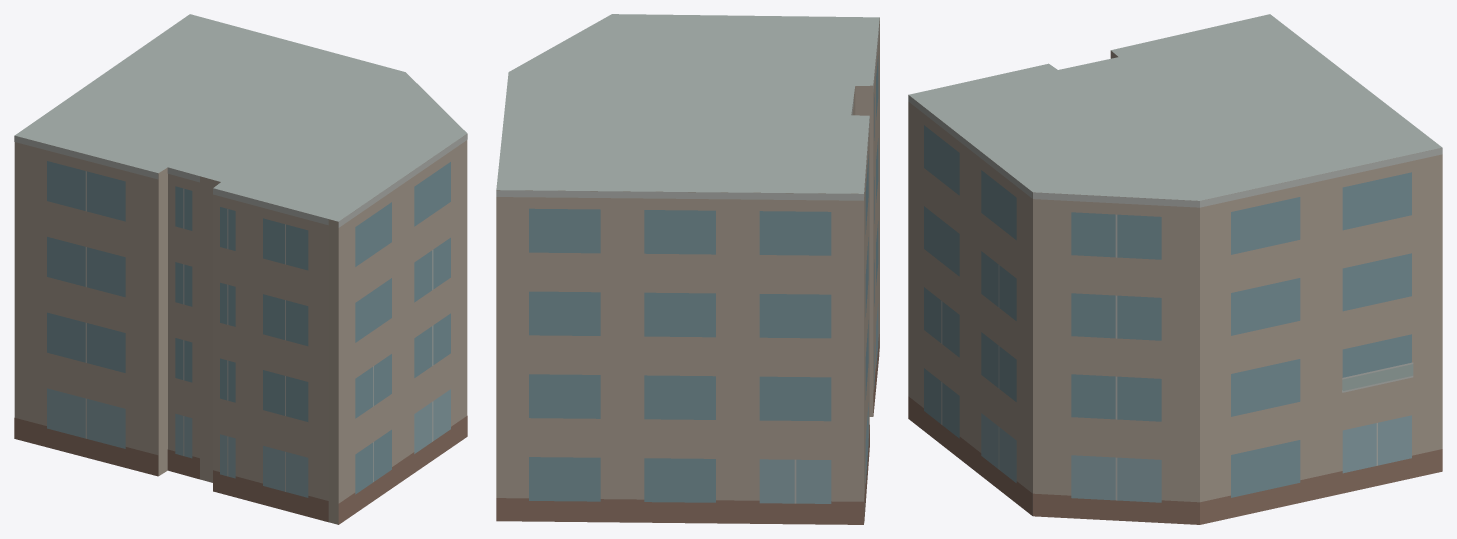
The model's file is survey-upis-32672061.glb.
3 views of the same model, side by side, from view 1: azimuth 30°, elevation 25°; view 2: azimuth 150°, elevation 25°; view 3: azimuth 270°, elevation 25° (orthographic). The views are drawn at different scales.
Parts seen in each view (by area): view 1: survey-upis-32672061.tmp; view 2: survey-upis-32672061.tmp; view 3: survey-upis-32672061.tmp.
Boxes of the visible parts, x1=… form: survey-upis-32672061.tmp: x1=14, y1=14, x2=467, y2=524; survey-upis-32672061.tmp: x1=496, y1=14, x2=879, y2=524; survey-upis-32672061.tmp: x1=908, y1=14, x2=1442, y2=524.
Size of the model in its own units: 14.49 by 11.7 by 17.49.
